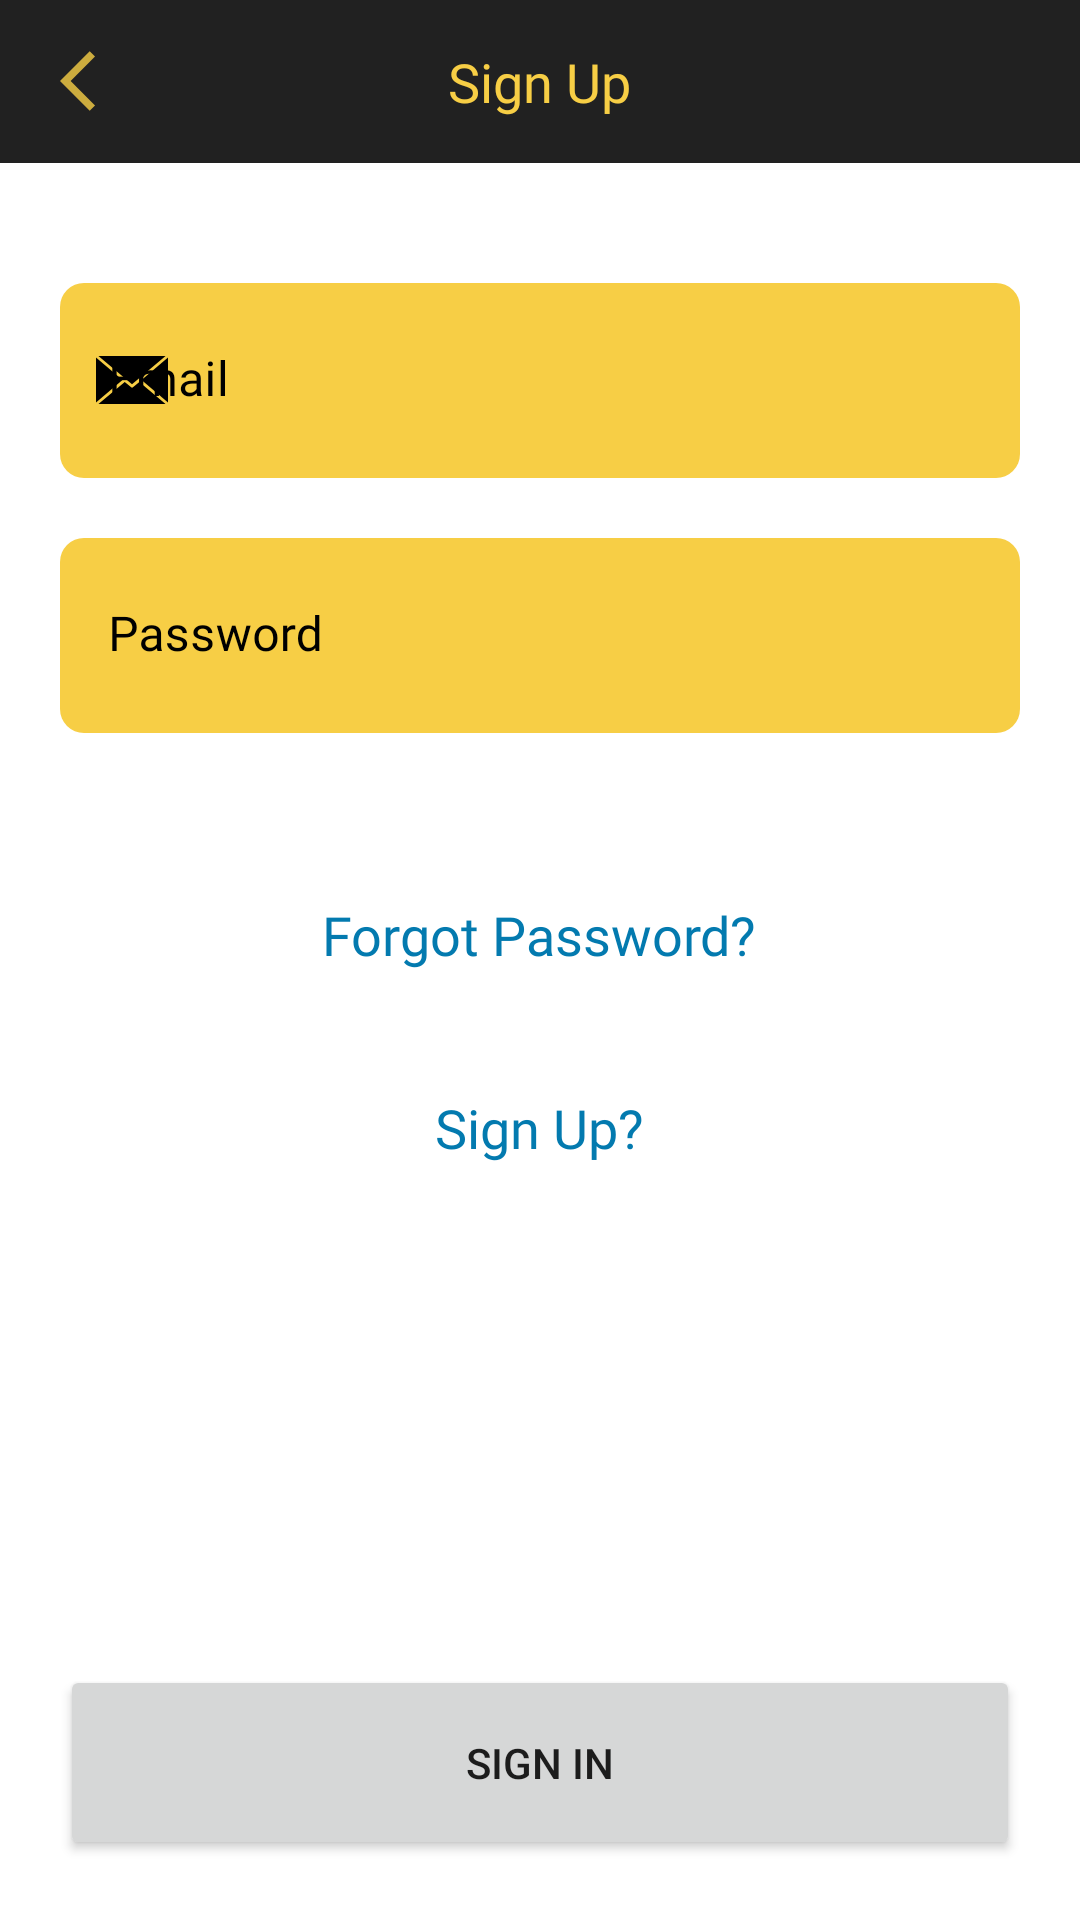

Point at icon controls on the screen. Image size 1080px x 1920px, points as [x,y].
back icon: [77,81]
